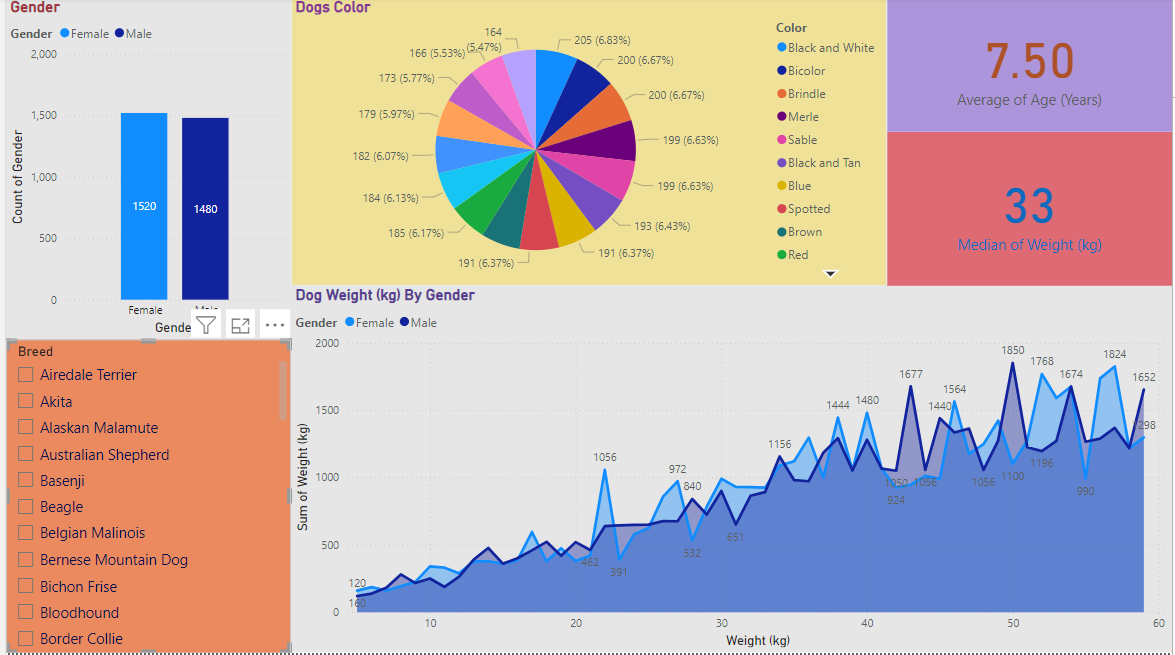

The page's visual inventory and layout, read from the dashboard file:
{"tool":"powerbi","page":{"name":"Page 1","canvas":[1280,720],"ordinal":0},"visuals":[{"type":"columnChart","title":"Gender","fields":{"Category":["Dogs_2024.Gender"],"Y":["CountNonNull(Dogs_2024.Gender)"],"Series":["Dogs_2024.Gender"]},"box":[0,0,312.9,376],"z":0},{"type":"pieChart","title":"Dogs Color","fields":{"Category":["Dogs_2024.Color"],"Y":["CountNonNull(Dogs_2024.Color)"]},"box":[312.9,0,654.5,317],"z":1000},{"type":"card","fields":{"Values":["Avg(Dogs_2024.Age (Years))"]},"box":[967.4,0,312.9,148.2],"z":2000},{"type":"areaChart","title":" Dog Weight (kg) By Gender","fields":{"Category":["Dogs_2024.Weight (kg)"],"Y":["Sum(Dogs_2024.Weight (kg))"],"Series":["Dogs_2024.Gender"]},"box":[312.9,317,967.4,402.1],"z":3000},{"type":"slicer","fields":{"Values":["Dogs_2024.Breed"]},"box":[0,376,312.9,344.4],"z":4000},{"type":"card","fields":{"Values":["Median(Dogs_2024.Weight (kg))"]},"box":[967.4,148.2,312.9,168.8],"z":5000}]}

Visuals, with their boxes in screenshot pixels (x1, y1, x2, y2), scaled from the page's 1280x720 canvas onto the 1175x655 screenshot:
"Gender" columnChart: detection(0, 0, 287, 342)
"Dogs Color" pieChart: detection(287, 0, 888, 288)
card - Avg(Dogs_2024.Age (Years)): detection(888, 0, 1174, 135)
" Dog Weight (kg) By Gender" areaChart: detection(287, 288, 1174, 654)
slicer - Dogs_2024.Breed: detection(0, 342, 287, 654)
card - Median(Dogs_2024.Weight (kg)): detection(888, 135, 1174, 288)
